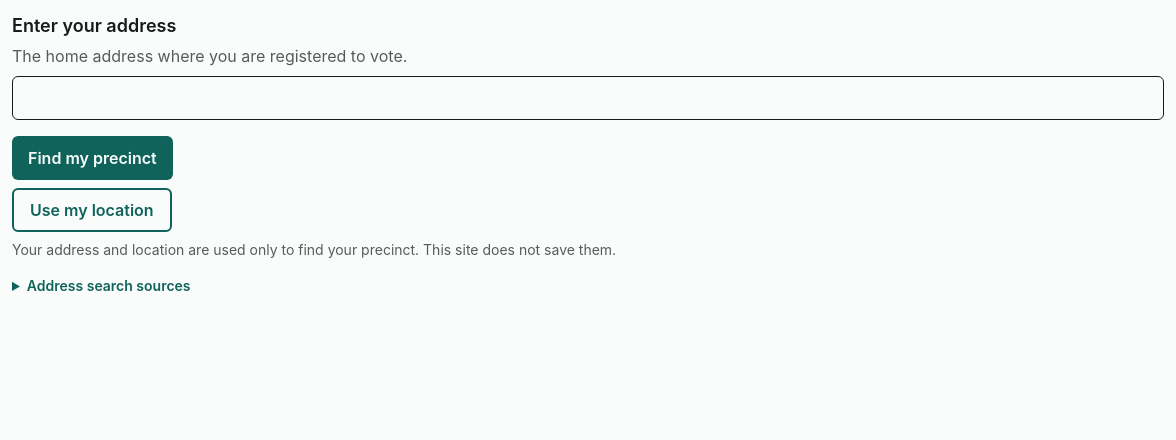
focus after a retry that removes "Try again" › goes to the address box when the retry finds no match
In the dropdown labelled "Enter your address": (588, 98) [12,76,1164,120], type "1318 Ross Ave"
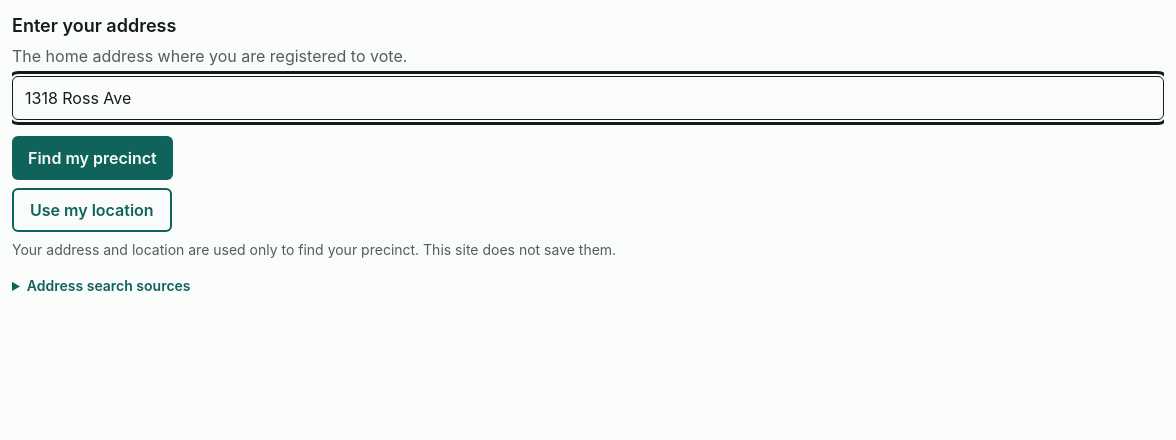
Click the button "Find my precinct": click(92, 158) [12,136,173,180]
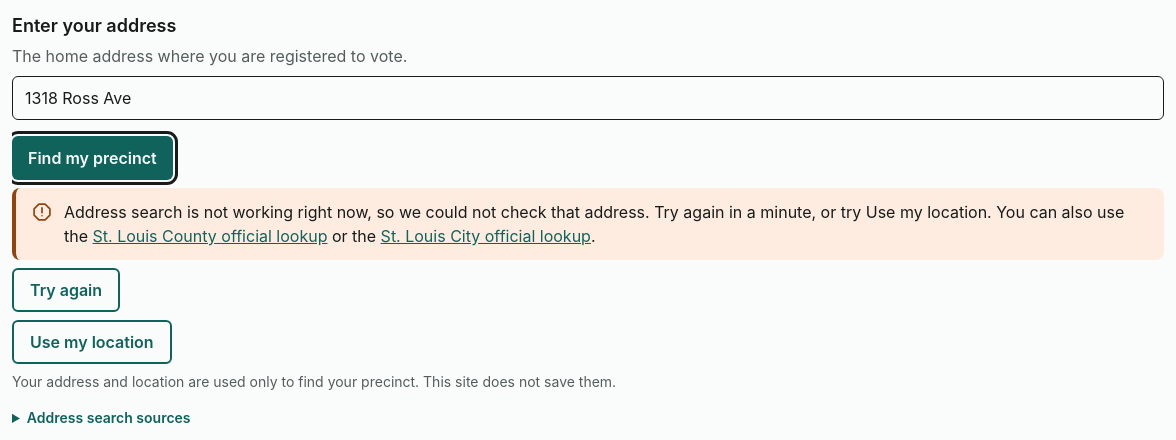
expect the text "Address search is not working right now, so we could not check that address. Try again in a minute, or try Use my locati" is shown: met, box [64,202,992,222]
Click the button "Try again": click(66, 290) [12,268,120,312]
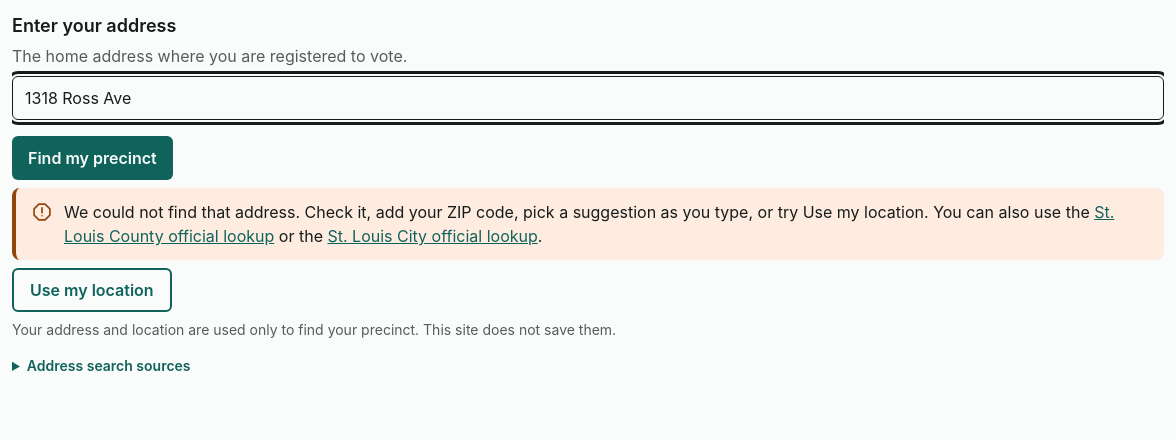
expect the text "We could not find that address. Check it, add your ZIP code, pick a suggestion as you type, or try Use my location." is shown: met, box [64,202,929,222]
